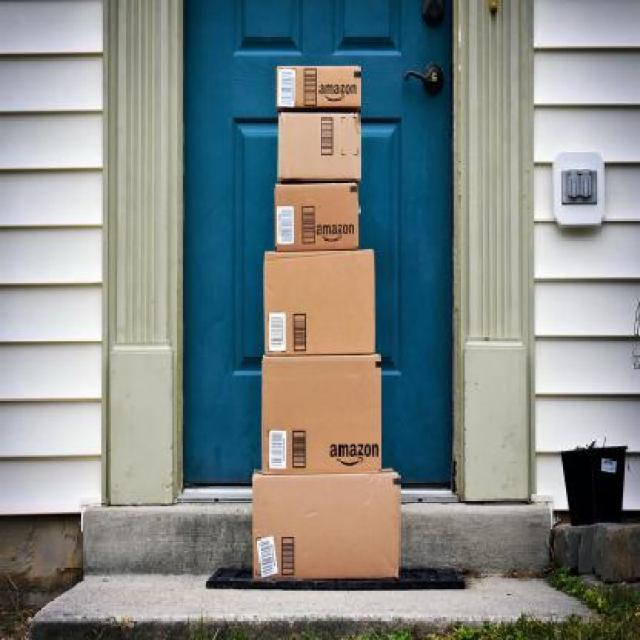cardboxes: (248, 464, 404, 585), (258, 350, 385, 472), (260, 249, 382, 357), (269, 180, 362, 252), (273, 113, 362, 185), (273, 60, 362, 114)
